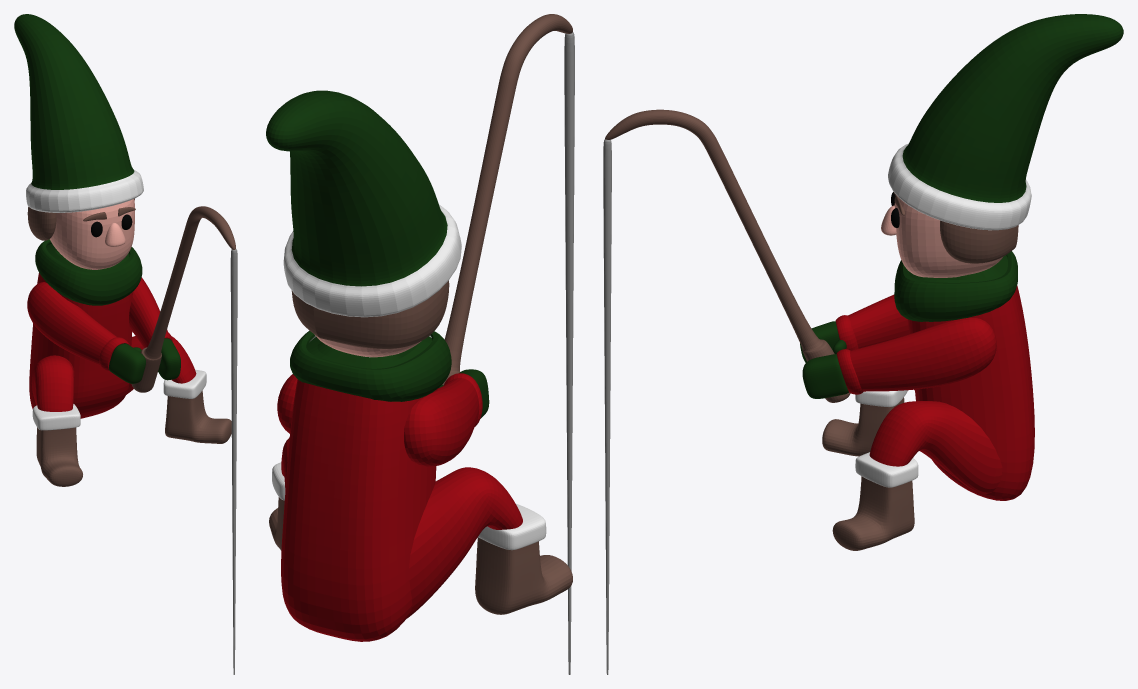
Rendered from fiskare.fbx.
3 renders of one model, left to right at view 1: azimuth 30°, elevation 25°; view 2: azimuth 150°, elevation 25°; view 3: azimuth 270°, elevation 25°, orthographic. The views are drawn at different scales.
Visible parts, largest first — view 1: Cube.013, Cube, Cube.005, Cube.004, Cube.003, Cube.011, Cube.012, Cube.002, Cube.010, Cube.007, Cube.020, Cube.009 (+2 smaller); view 2: Cube, Cube.013, Cube.002, Cube.011, Cube.003, Cube.005, Cube.020, Cube.012, Cube.004, Cube.010, Cube.007; view 3: Cube.013, Cube, Cube.010, Cube.001, Cube.011, Cube.004, Cube.012, Cube.003, Cube.005, Cube.020, Cube.009.
Boxes of the visible parts, x1,y1,x2,y2 form: Cube.013: [14, 14, 143, 212]; Cube: [29, 199, 142, 418]; Cube.005: [27, 282, 129, 371]; Cube.004: [163, 369, 231, 443]; Cube.003: [32, 404, 82, 486]; Cube.011: [131, 206, 235, 392]; Cube.012: [230, 249, 237, 674]; Cube.002: [31, 355, 74, 411]; Cube.010: [129, 277, 172, 347]; Cube.007: [109, 343, 145, 383]; Cube.020: [27, 198, 134, 240]; Cube.009: [158, 338, 180, 380]; Cube: [281, 330, 451, 641]; Cube.013: [266, 90, 461, 317]; Cube.002: [407, 467, 522, 618]; Cube.011: [442, 14, 572, 385]; Cube.003: [475, 504, 572, 614]; Cube.005: [404, 373, 482, 466]; Cube.020: [291, 280, 449, 348]; Cube.012: [564, 32, 574, 674]; Cube.004: [269, 462, 285, 550]; Cube.010: [277, 374, 297, 433]; Cube.007: [459, 369, 489, 418]; Cube.013: [888, 14, 1123, 230]; Cube: [894, 194, 1034, 500]; Cube.010: [836, 317, 996, 394]; Cube.001: [869, 401, 1002, 493]; Cube.011: [605, 109, 850, 402]; Cube.004: [832, 452, 918, 550]; Cube.012: [603, 139, 611, 674]; Cube.003: [822, 390, 907, 456]; Cube.005: [835, 294, 909, 350]; Cube.020: [940, 220, 1018, 263]; Cube.009: [802, 354, 848, 398].
Size of the model in its own units: 316 by 819 by 592.
